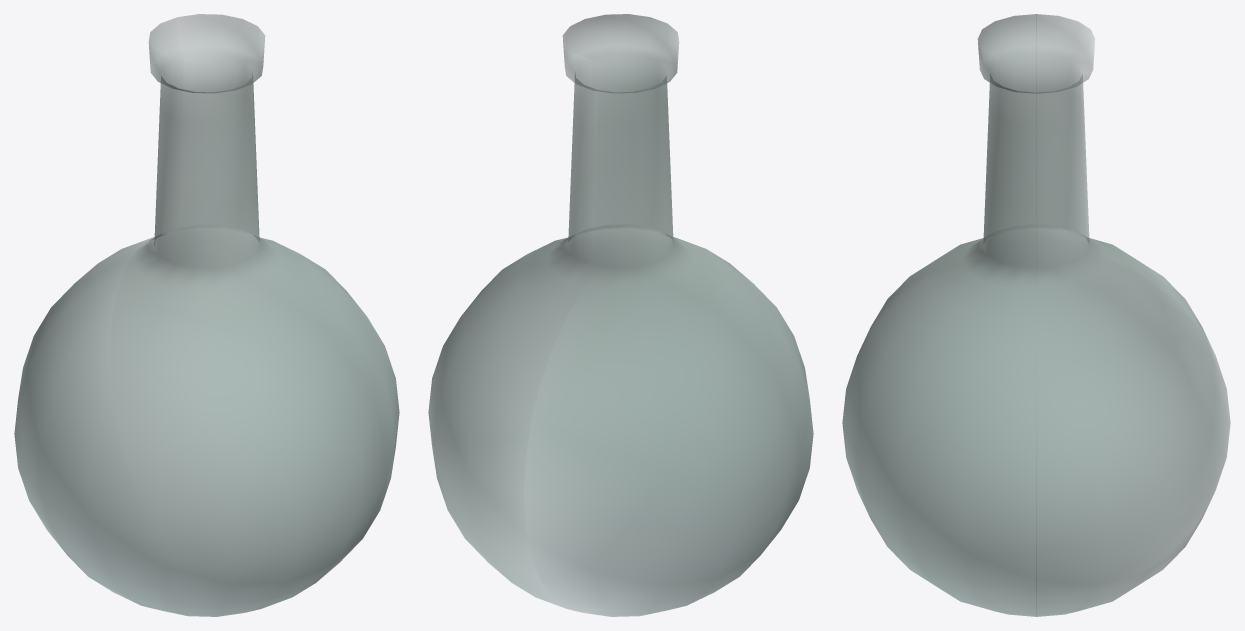
The model's file is lab-flask--2.gltf.
The picture shows the model from 3 angles, left to right: view 1: azimuth 30°, elevation 25°; view 2: azimuth 150°, elevation 25°; view 3: azimuth 270°, elevation 25°; orthographic projection.
Visible parts, largest first — view 1: Bottle_4; view 2: Bottle_4; view 3: Bottle_4.
Part boxes in pixels (box(x1,y1,x2,y2)): Bottle_4: box(14, 14, 399, 616); Bottle_4: box(428, 14, 813, 616); Bottle_4: box(842, 14, 1230, 616).
Size of the model in its own units: 0.2137 by 0.3402 by 0.2137.
1 material, 1 textured.
